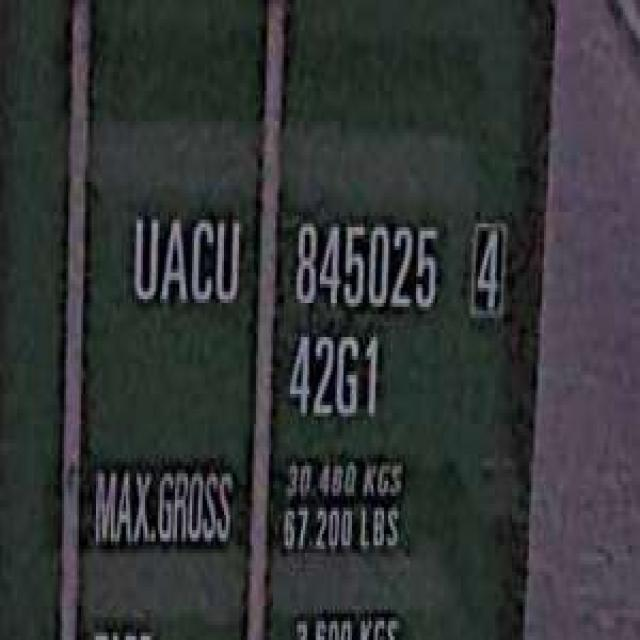dv: (465, 204, 510, 322)
owner: (126, 201, 243, 314)
serial: (286, 208, 444, 322)
size: (281, 326, 382, 428)
